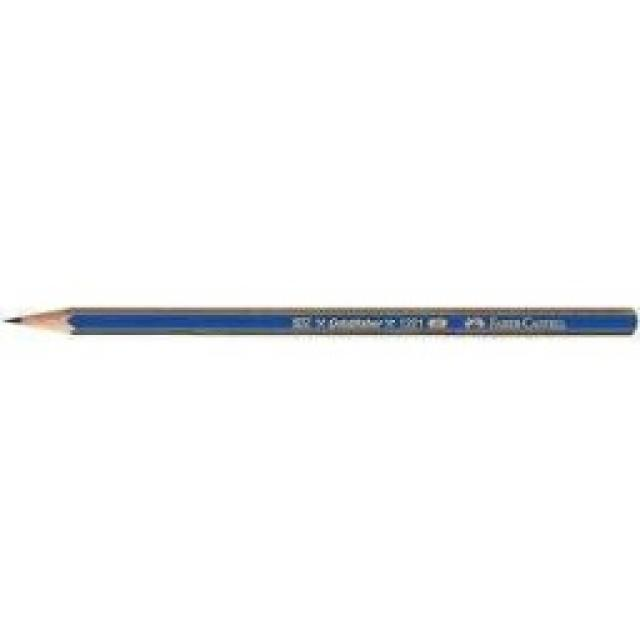pencil: (0, 300, 638, 340)
